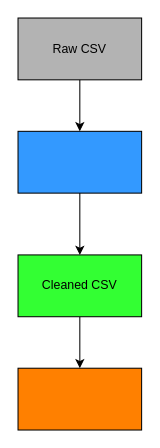
This 160x448 diagram has some shape labels left out. Each missing label, with the box of its shape:
Analysis/Dashboard: (17, 367, 142, 430)
ETL Scripts: (17, 130, 142, 193)
